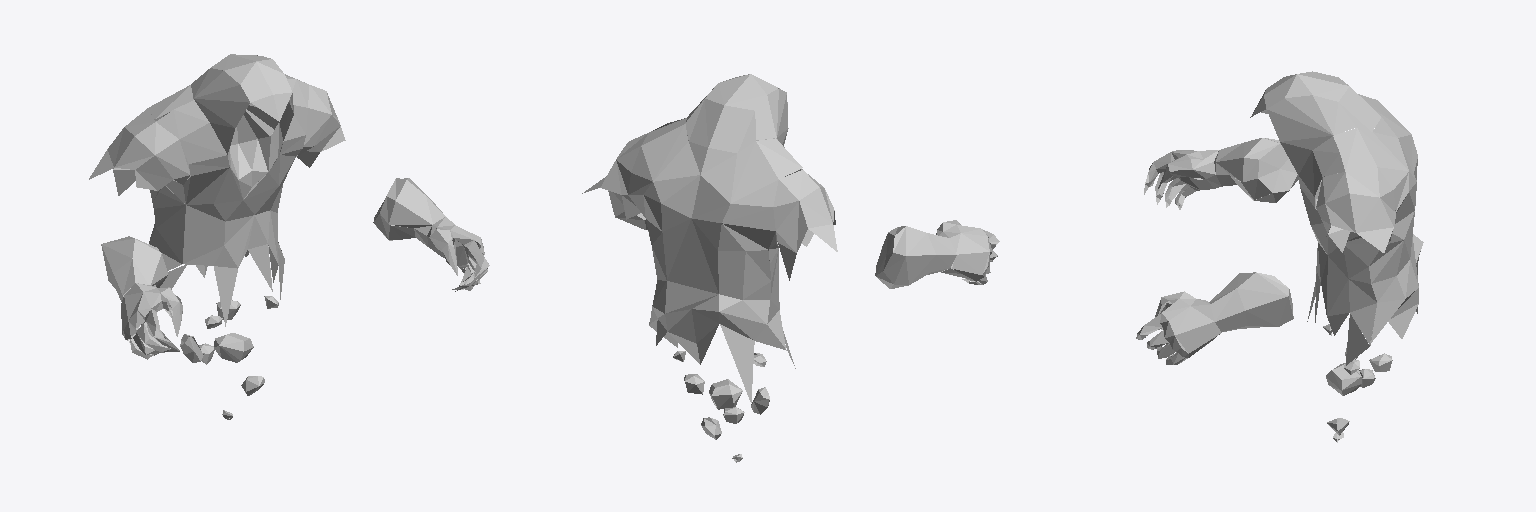
Rendered from goule.obj.
The picture shows the model from 3 angles: view 1: azimuth 30°, elevation 25°; view 2: azimuth 150°, elevation 25°; view 3: azimuth 270°, elevation 25°; orthographic projection.
Visible parts, largest first — view 1: Ghoul_body_low_StingrayPBS1_0.001; view 2: Ghoul_body_low_StingrayPBS1_0.001; view 3: Ghoul_body_low_StingrayPBS1_0.001.
Boxes of the visible parts, x1,y1,x2,y2 form: Ghoul_body_low_StingrayPBS1_0.001: [89, 54, 489, 419]; Ghoul_body_low_StingrayPBS1_0.001: [582, 74, 999, 462]; Ghoul_body_low_StingrayPBS1_0.001: [1136, 71, 1423, 442].
Bounding box in the file's own units: 2.4 × 2.42 × 1.69.